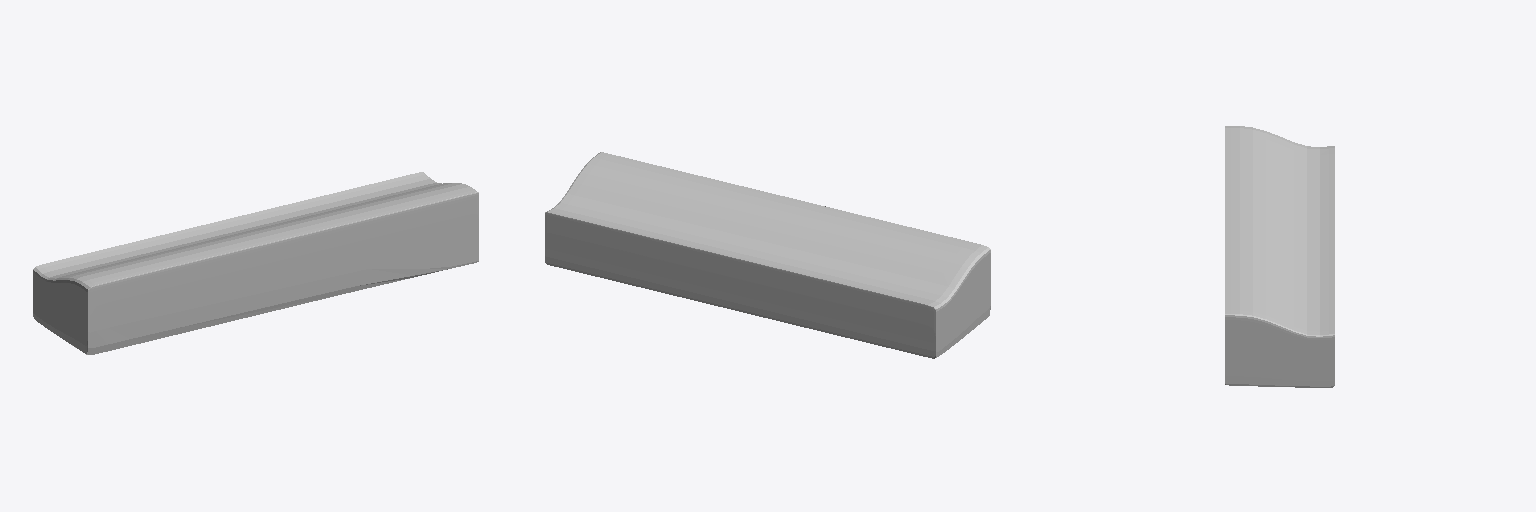
File: Tile_Cuesta_Izquierda_Tierra.obj
The picture shows the model from 3 angles: view 1: azimuth 30°, elevation 25°; view 2: azimuth 150°, elevation 25°; view 3: azimuth 270°, elevation 25°; orthographic projection.
Visible parts, largest first — view 1: Cube.007; view 2: Cube.007; view 3: Cube.007.
Boxes of the visible parts, x1,y1,x2,y2 form: Cube.007: [33, 172, 478, 354]; Cube.007: [545, 152, 990, 358]; Cube.007: [1225, 126, 1334, 387].
Bounding box in the file's own units: 40.74 × 7.31 × 10.